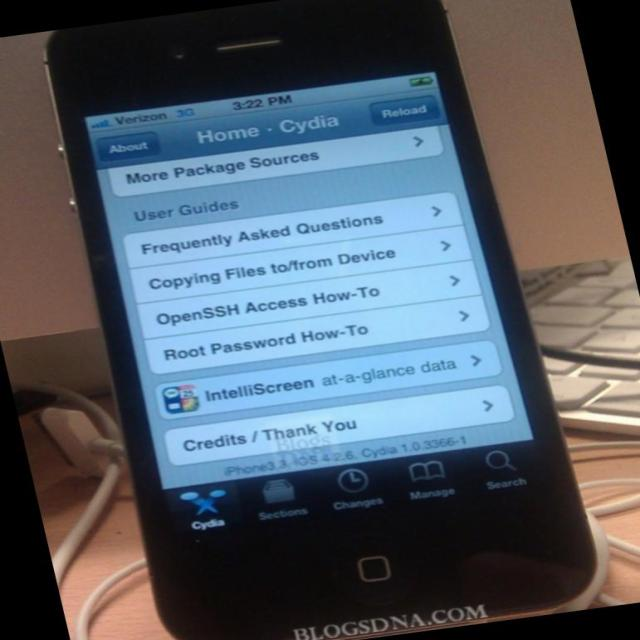handphone: (44, 14, 592, 613)
